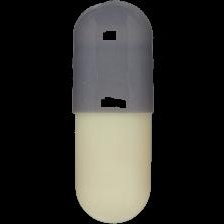55111-341: (0, 0, 224, 224)
